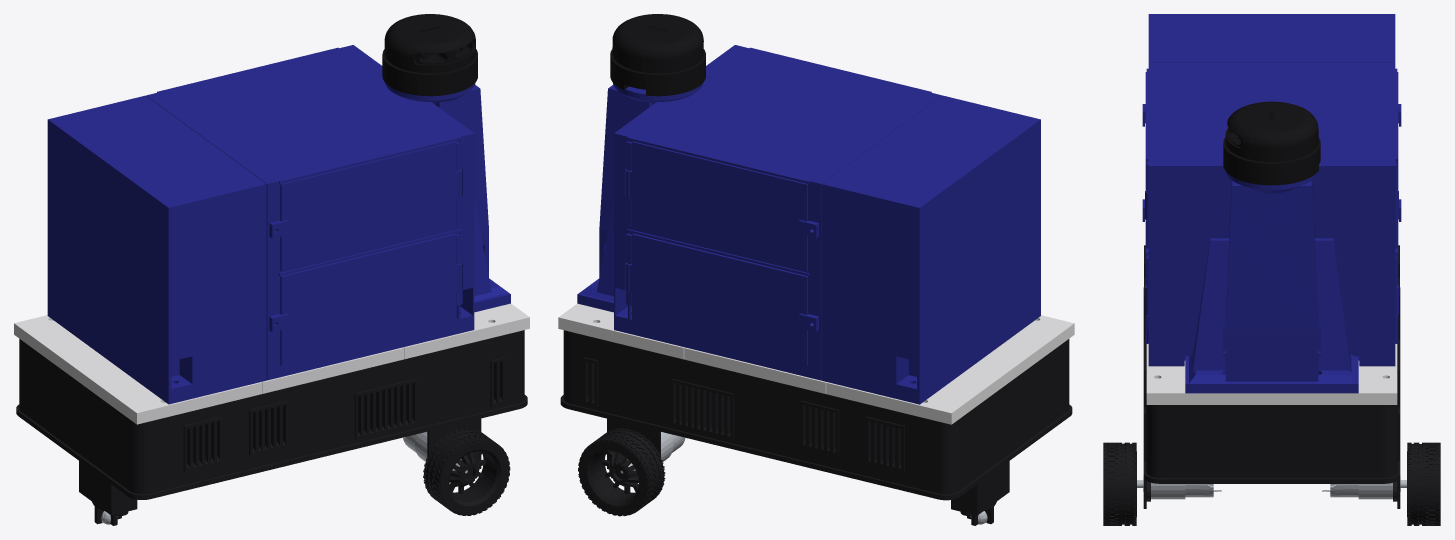
File: Dvx_UGV_v2.0_full.dae
3 renders of one model, left to right at view 1: azimuth 30°, elevation 25°; view 2: azimuth 150°, elevation 25°; view 3: azimuth 270°, elevation 25°, orthographic.
Parts seen in each view (by area): view 1: cargo_bay_cargo_bay_rear, cargo_bay_cargo_bay_front, mobile_base_tub_rear, door_lower_right_door_lower_right, door_upper_right_door_upper_right, mobile_base_tub_front, mobile_base_deck_plate_3, lidar_RP_LIDAR_A2, wheel_right_wheel_right, mobile_base_lidar_mount, mobile_base_deck_plate_1, mobile_base_deck_plate_2; view 2: cargo_bay_cargo_bay_rear, cargo_bay_cargo_bay_front, mobile_base_tub_rear, door_lower_left_door_lower_left, mobile_base_tub_front, door_upper_left_door_upper_left, mobile_base_deck_plate_3, lidar_RP_LIDAR_A2, wheel_left_wheel_left, mobile_base_lidar_mount, mobile_base_deck_plate_1, mobile_base_deck_plate_2; view 3: cargo_bay_cargo_bay_front, mobile_base_lidar_mount, mobile_base_tub_front, cargo_bay_cargo_bay_rear, lidar_RP_LIDAR_A2, mobile_base_deck_plate_1, wheel_right_wheel_right, wheel_left_wheel_left, mobile_base_motor_1, mobile_base_motor_2, mobile_base_tub_rear, door_upper_left_door_upper_left (+1 smaller).
Part boxes in pixels (<box>): cargo_bay_cargo_bay_rear: <box>47,95,266,404</box>; cargo_bay_cargo_bay_front: <box>146,45,474,380</box>; mobile_base_tub_rear: <box>16,339,334,515</box>; door_lower_right_door_lower_right: <box>280,233,462,365</box>; door_upper_right_door_upper_right: <box>280,141,462,271</box>; mobile_base_tub_front: <box>333,330,527,476</box>; mobile_base_deck_plate_3: <box>14,315,262,424</box>; lidar_RP_LIDAR_A2: <box>382,14,477,96</box>; wheel_right_wheel_right: <box>423,428,510,515</box>; mobile_base_lidar_mount: <box>385,83,510,312</box>; mobile_base_deck_plate_1: <box>404,303,529,359</box>; mobile_base_deck_plate_2: <box>262,347,404,393</box>; cargo_bay_cargo_bay_rear: <box>821,95,1040,404</box>; cargo_bay_cargo_bay_front: <box>614,45,942,380</box>; mobile_base_tub_rear: <box>753,339,1072,515</box>; door_lower_left_door_lower_left: <box>626,233,807,366</box>; mobile_base_tub_front: <box>560,330,754,471</box>; door_upper_left_door_upper_left: <box>626,141,807,271</box>; mobile_base_deck_plate_3: <box>826,315,1074,424</box>; lidar_RP_LIDAR_A2: <box>610,14,705,96</box>; wheel_left_wheel_left: <box>578,428,665,516</box>; mobile_base_lidar_mount: <box>577,83,703,312</box>; mobile_base_deck_plate_1: <box>558,303,684,359</box>; mobile_base_deck_plate_2: <box>684,347,826,393</box>; cargo_bay_cargo_bay_front: <box>1142,63,1401,366</box>; mobile_base_lidar_mount: <box>1185,172,1358,393</box>; mobile_base_tub_front: <box>1143,339,1400,508</box>; cargo_bay_cargo_bay_rear: <box>1148,14,1395,62</box>; lidar_RP_LIDAR_A2: <box>1223,101,1320,185</box>; mobile_base_deck_plate_1: <box>1146,344,1397,404</box>; wheel_right_wheel_right: <box>1103,442,1136,525</box>; wheel_left_wheel_left: <box>1407,442,1440,525</box>; mobile_base_motor_1: <box>1137,477,1221,499</box>; mobile_base_motor_2: <box>1322,477,1406,499</box>; mobile_base_tub_rear: <box>1143,245,1400,379</box>; door_upper_left_door_upper_left: <box>1395,72,1398,247</box>.
Bounding box in the file's own units: 0.365 × 0.2628 × 0.3642.
